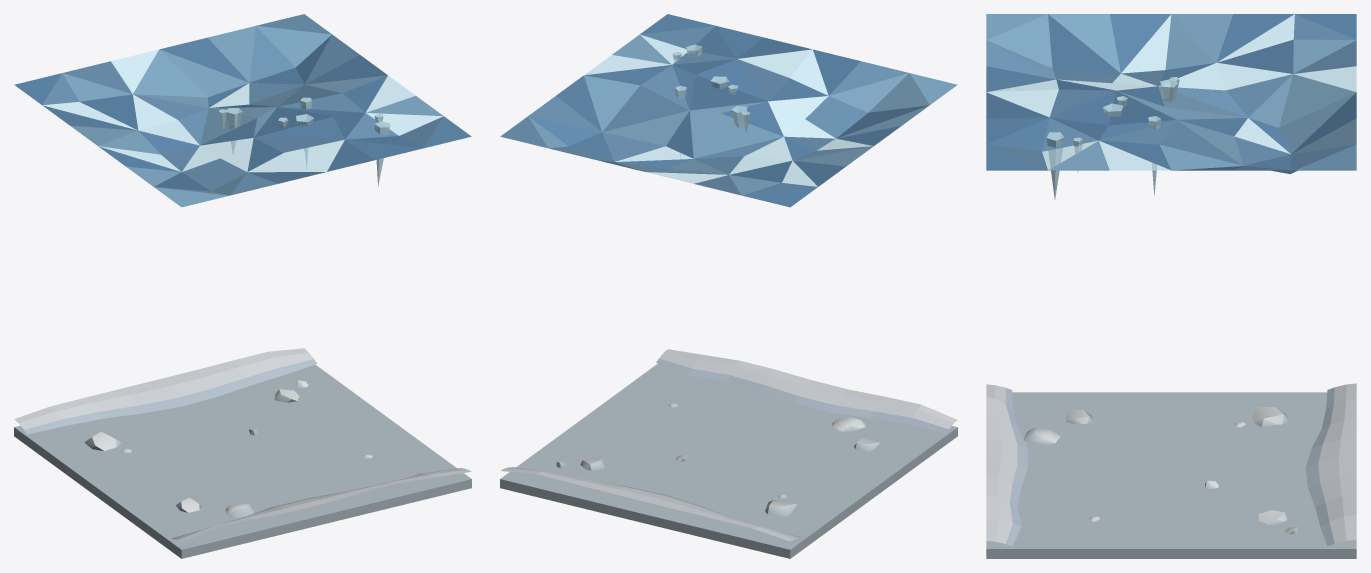
The model's file is floor_a.fbx.
3 renders of one model, left to right at view 1: azimuth 30°, elevation 25°; view 2: azimuth 150°, elevation 25°; view 3: azimuth 270°, elevation 25°, orthographic. The views are drawn at different scales.
Parts seen in each view (by area): view 1: floor_a, Ceiling; view 2: floor_a, Ceiling; view 3: floor_a, Ceiling.
Boxes of the visible parts, box(x1,y1,x2,y2) form: floor_a: box(14, 348, 471, 558); Ceiling: box(14, 14, 471, 207); floor_a: box(500, 349, 957, 558); Ceiling: box(500, 14, 957, 207); floor_a: box(986, 383, 1356, 558); Ceiling: box(986, 14, 1356, 199).
Size of the model in its own units: 4 by 4.68 by 4.
